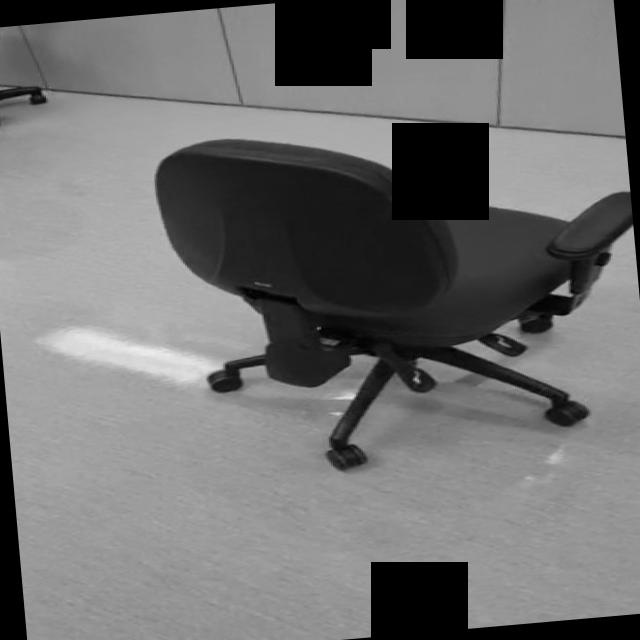cadeira-azul: (149, 103, 640, 482)
